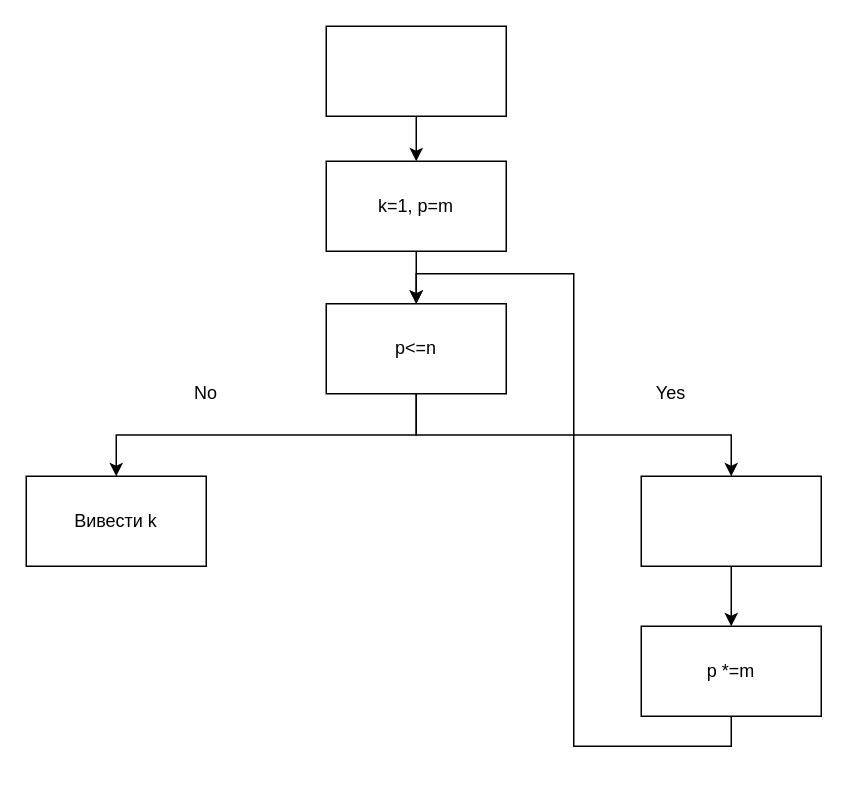
This 848x785 diagram has some shape labels left out. Each missing label, with the box of its shape:
k=k+1: (640, 475, 821, 566)
Ввести n, m: (325, 25, 506, 116)
